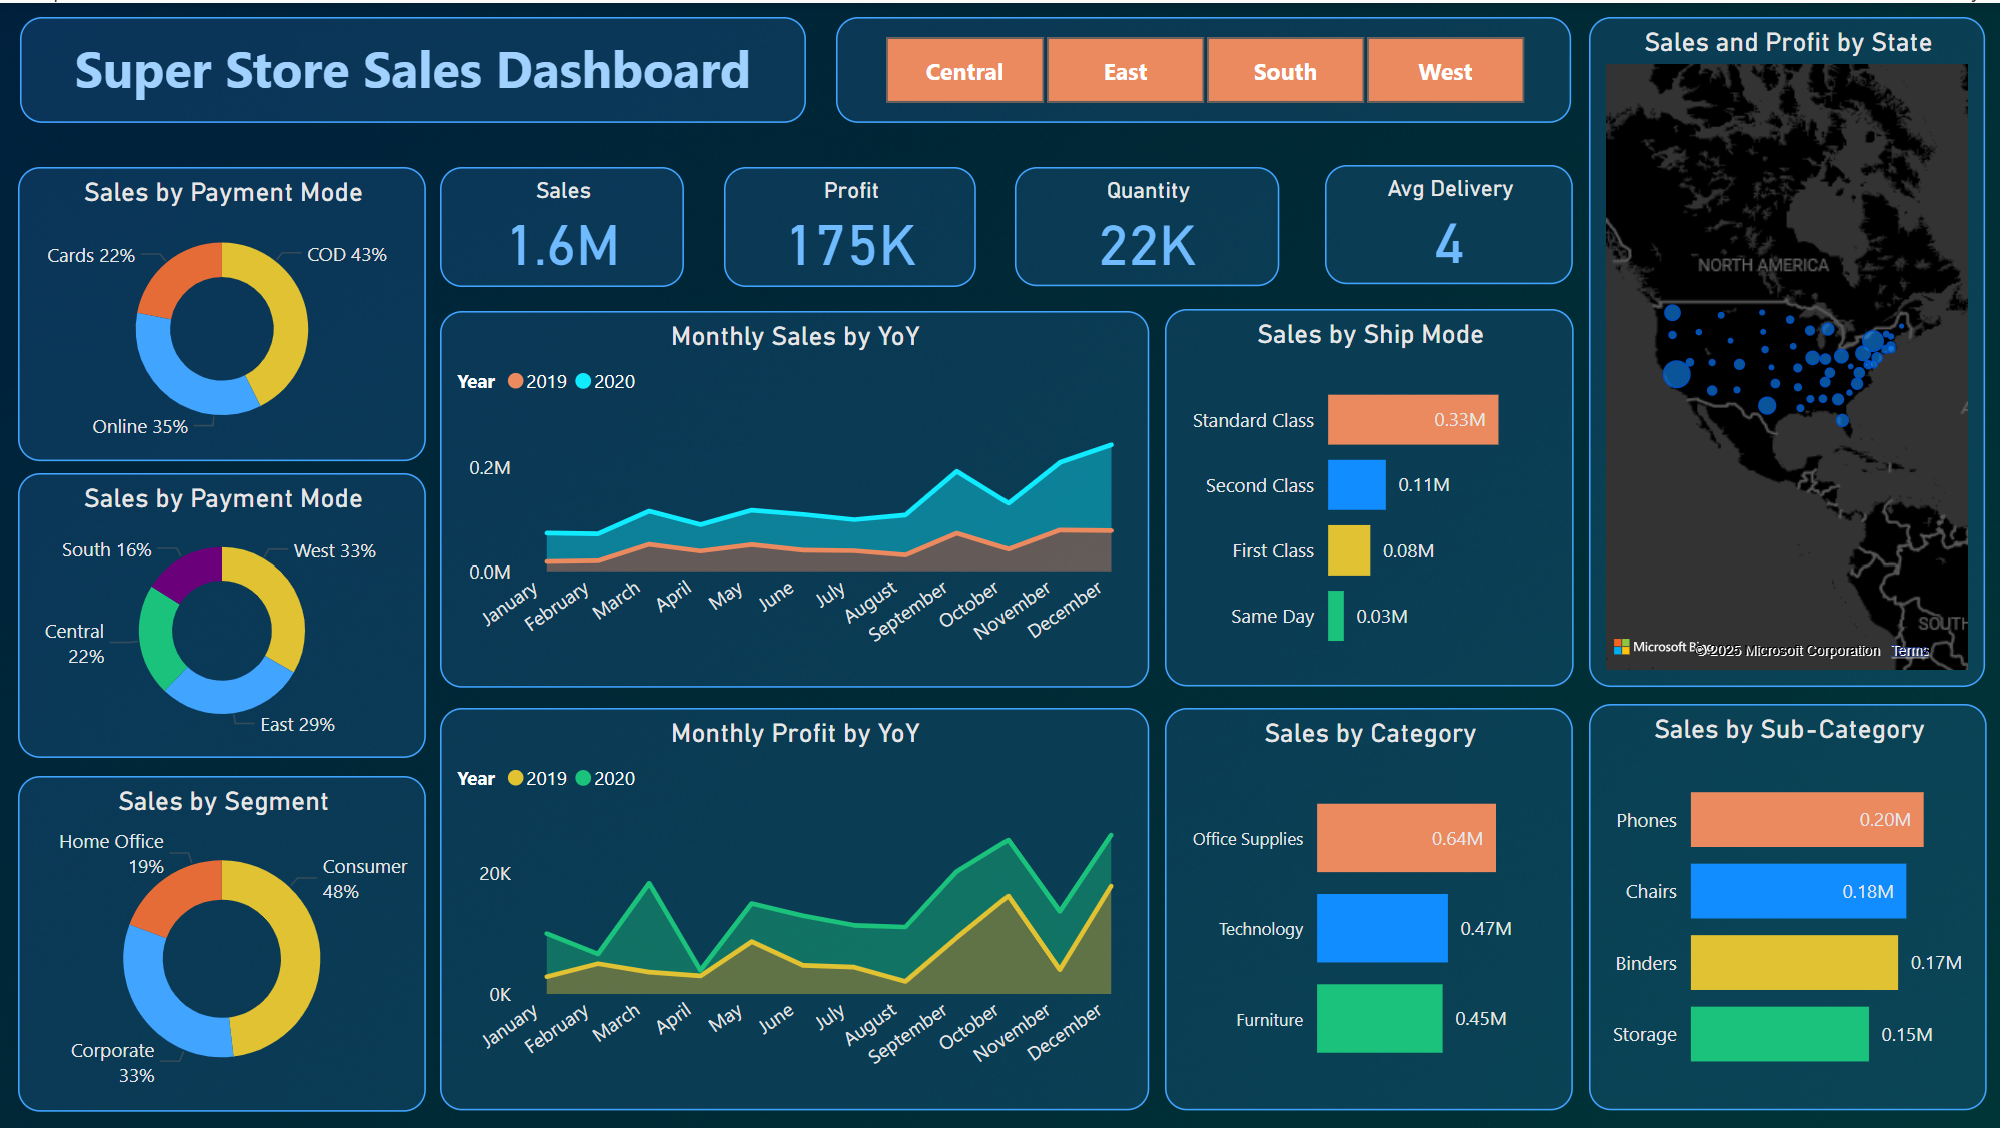

What the dashboard file says about the page in this screenshot:
{"tool":"powerbi","page":{"name":"Dashboard","canvas":[1280,720],"ordinal":0},"visuals":[{"type":"clusteredBarChart","title":"Sales by Sub-Category","fields":{"Category":["SuperStore_Sales_Dataset.Sub-Category"],"Y":["Sum(SuperStore_Sales_Dataset.Sales)"]},"box":[1014.8,446.2,253.7,258.8],"z":0},{"type":"clusteredBarChart","title":"Sales by Ship Mode","fields":{"Category":["SuperStore_Sales_Dataset.Ship Mode"],"Y":["Sum(SuperStore_Sales_Dataset.Sales)"]},"box":[745,195.6,260.5,240],"z":1000},{"type":"stackedAreaChart","title":"Monthly Sales by YoY","fields":{"Category":["SuperStore_Sales_Dataset.Order Date.Variation.Date Hierarchy.Month"],"Y":["Sum(SuperStore_Sales_Dataset.Sales)"],"Series":["SuperStore_Sales_Dataset.Order Date.Variation.Date Hierarchy.Year"]},"box":[283,196.3,451.3,239.7],"z":2000},{"type":"stackedAreaChart","title":"Monthly Profit by YoY","fields":{"Category":["SuperStore_Sales_Dataset.Order Date.Variation.Date Hierarchy.Month"],"Series":["SuperStore_Sales_Dataset.Order Date.Variation.Date Hierarchy.Year"],"Y":["Sum(SuperStore_Sales_Dataset.Profit)"]},"box":[283,448.8,451.3,256.3],"z":3000},{"type":"barChart","title":"Sales by Category","fields":{"Category":["SuperStore_Sales_Dataset.Category"],"Y":["Sum(SuperStore_Sales_Dataset.Sales)"]},"box":[744.5,448.8,260.1,256.3],"z":4000},{"type":"map","title":"Sales and Profit by State","fields":{"Category":["SuperStore_Sales_Dataset.State"],"Size":["Sum(SuperStore_Sales_Dataset.Sales)"]},"box":[1014.6,9.1,252.5,426.5],"z":5000},{"type":"donutChart","title":"Sales by Segment","fields":{"Category":["SuperStore_Sales_Dataset.Segment"],"Y":["Sum(SuperStore_Sales_Dataset.Sales)"]},"box":[14,492.1,260.1,214.2],"z":6000},{"type":"donutChart","title":"Sales by Payment Mode","fields":{"Y":["Sum(SuperStore_Sales_Dataset.Sales)"],"Category":["SuperStore_Sales_Dataset.Region"]},"box":[14,299.6,260.1,181],"z":7000},{"type":"slicer","fields":{"Values":["SuperStore_Sales_Dataset.Region"]},"box":[535.5,8.9,467.9,67.6],"z":8000},{"type":"textbox","box":[15.3,8.9,501,67.6],"z":9000},{"type":"card","title":"Sales","fields":{"Values":["Sum(SuperStore_Sales_Dataset.Sales)"]},"box":[283,104.5,155.5,76.5],"z":10000},{"type":"card","title":"Quantity","fields":{"Values":["Sum(SuperStore_Sales_Dataset.Quantity)"]},"box":[649.5,104.6,168.3,76.2],"z":11000},{"type":"card","title":"Profit","fields":{"Values":["Sum(SuperStore_Sales_Dataset.Profit)"]},"box":[464.1,104.5,160.6,76.5],"z":12000},{"type":"card","title":"Avg Delivery","fields":{"Values":["Avg(SuperStore_Sales_Dataset.AvgDelivery)"]},"box":[846.3,103.5,158.1,76.2],"z":13000},{"type":"donutChart","title":"Sales by Payment Mode","fields":{"Y":["Sum(SuperStore_Sales_Dataset.Sales)"],"Category":["SuperStore_Sales_Dataset.Payment Mode"]},"box":[14,104.5,260.1,187.4],"z":13001}]}

Visuals, with their boxes in screenshot pixels (x1, y1, x2, y2), scaled from the page's 1280x720 canvas onto the 2000x1128 screenshot:
"Sales by Sub-Category" clusteredBarChart: (x1=1586, y1=699, x2=1982, y2=1104)
"Sales by Ship Mode" clusteredBarChart: (x1=1164, y1=306, x2=1571, y2=682)
"Monthly Sales by YoY" stackedAreaChart: (x1=442, y1=308, x2=1147, y2=683)
"Monthly Profit by YoY" stackedAreaChart: (x1=442, y1=703, x2=1147, y2=1105)
"Sales by Category" barChart: (x1=1163, y1=703, x2=1570, y2=1105)
"Sales and Profit by State" map: (x1=1585, y1=14, x2=1980, y2=682)
"Sales by Segment" donutChart: (x1=22, y1=771, x2=428, y2=1107)
"Sales by Payment Mode" donutChart: (x1=22, y1=469, x2=428, y2=753)
slicer - SuperStore_Sales_Dataset.Region: (x1=837, y1=14, x2=1568, y2=120)
textbox: (x1=24, y1=14, x2=807, y2=120)
"Sales" card: (x1=442, y1=164, x2=685, y2=284)
"Quantity" card: (x1=1015, y1=164, x2=1278, y2=283)
"Profit" card: (x1=725, y1=164, x2=976, y2=284)
"Avg Delivery" card: (x1=1322, y1=162, x2=1569, y2=282)
"Sales by Payment Mode" donutChart: (x1=22, y1=164, x2=428, y2=457)
